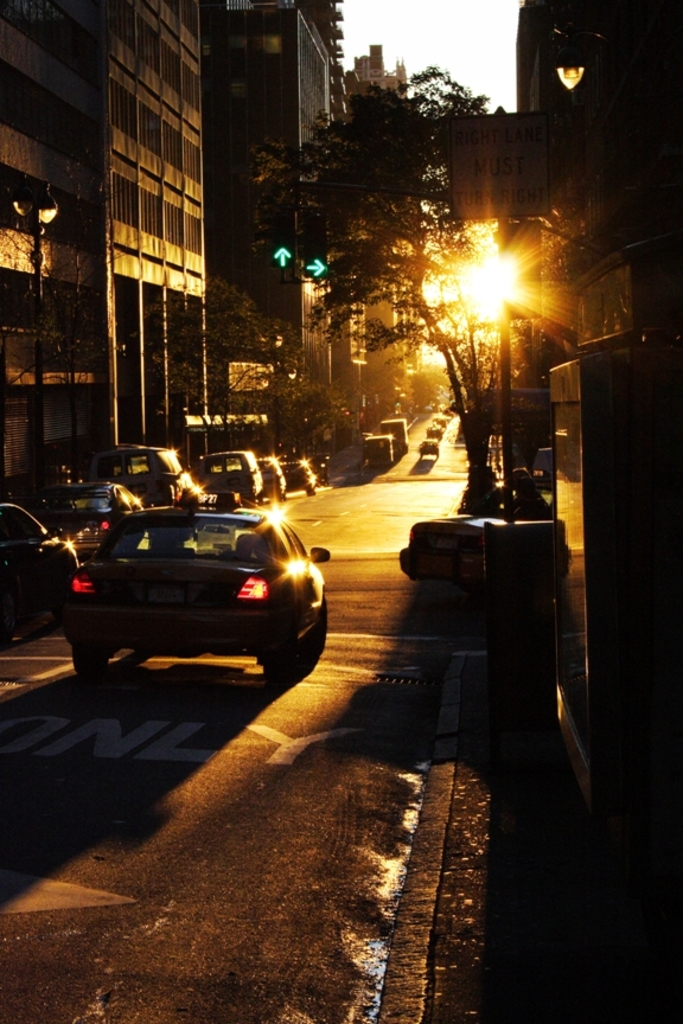mobil: (72, 510, 347, 674)
